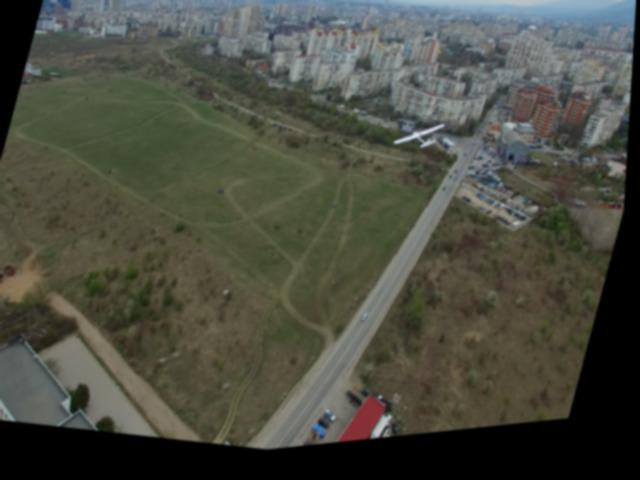plane: (395, 124, 447, 163)
